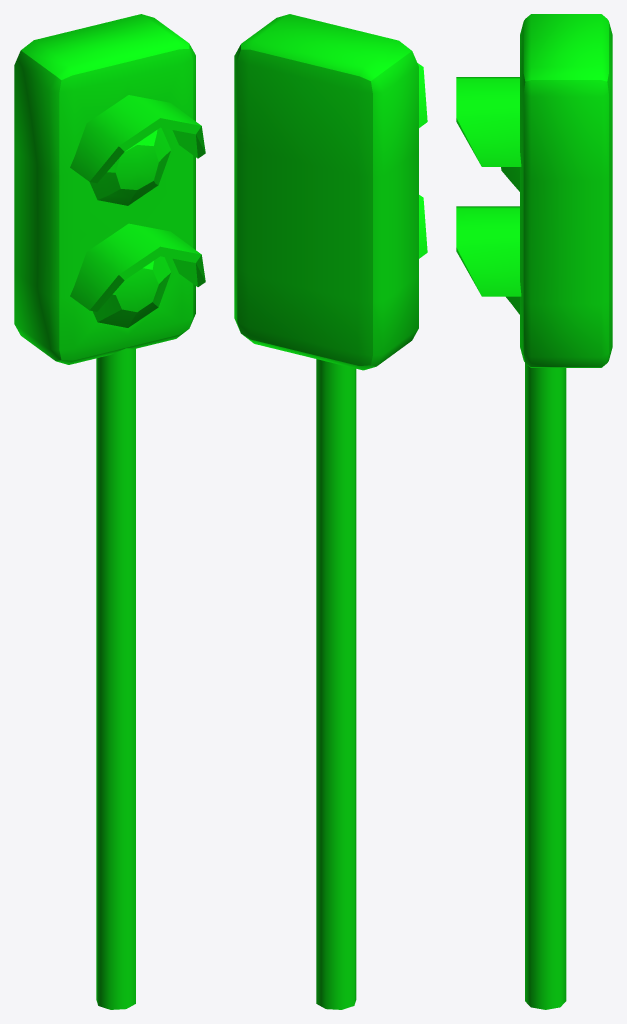
File: Parts_Connect_Light.fbx
3 renders of one model, left to right at view 1: azimuth 30°, elevation 25°; view 2: azimuth 150°, elevation 25°; view 3: azimuth 270°, elevation 25°, orthographic.
Parts seen in each view (by area): view 1: Cylinder018; view 2: Cylinder018; view 3: Cylinder018.
Part boxes in pixels (box(x1,y1,x2,y2)): Cylinder018: box(14, 14, 205, 1009); Cylinder018: box(234, 14, 427, 1009); Cylinder018: box(456, 14, 612, 1009).
Bounding box in the file's own units: 10.46 × 64.98 × 9.58.
